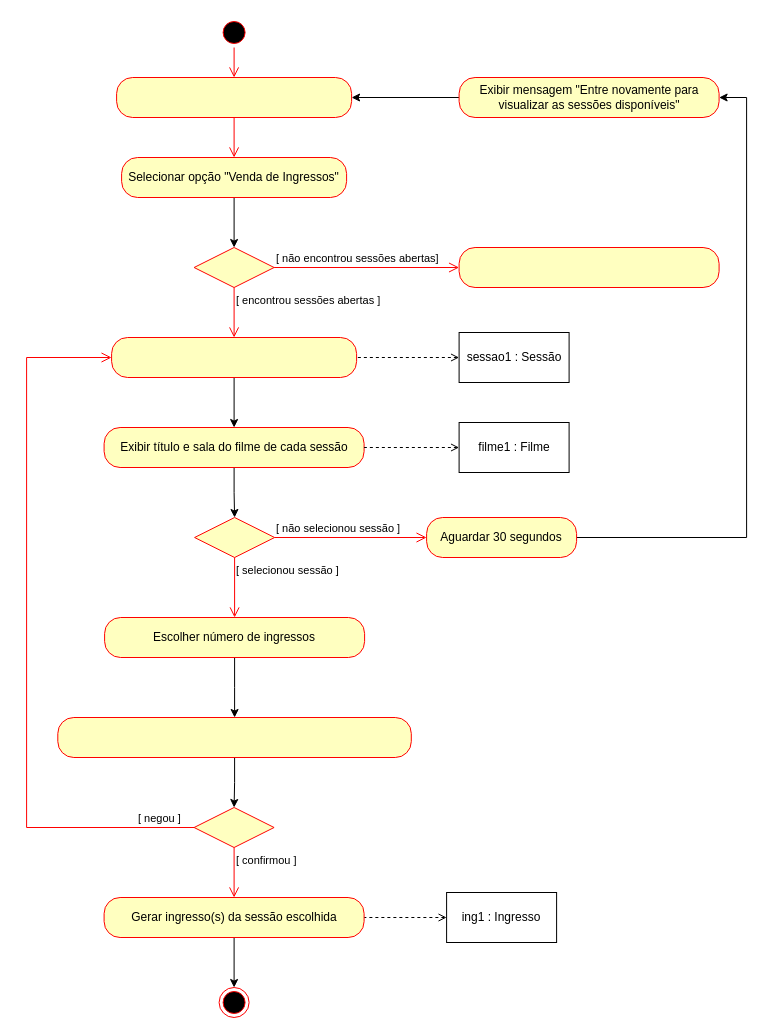
This 772x1035 diagram has some shape labels left out. The shapes that lost their labels are listed below. From the top down, each one's box as (x1, y1, x2, y2) in pixels, then its label:
(116, 76, 352, 118): Entrar na aba "Ingressos"
(458, 246, 719, 288): Exibir mensagem "Não há sessões abertas"
(111, 336, 357, 378): Visualizar lista de sessões abertas
(57, 716, 411, 758): Exibir caixa de diálogo "Confirma a compra de N ingressos ?"
